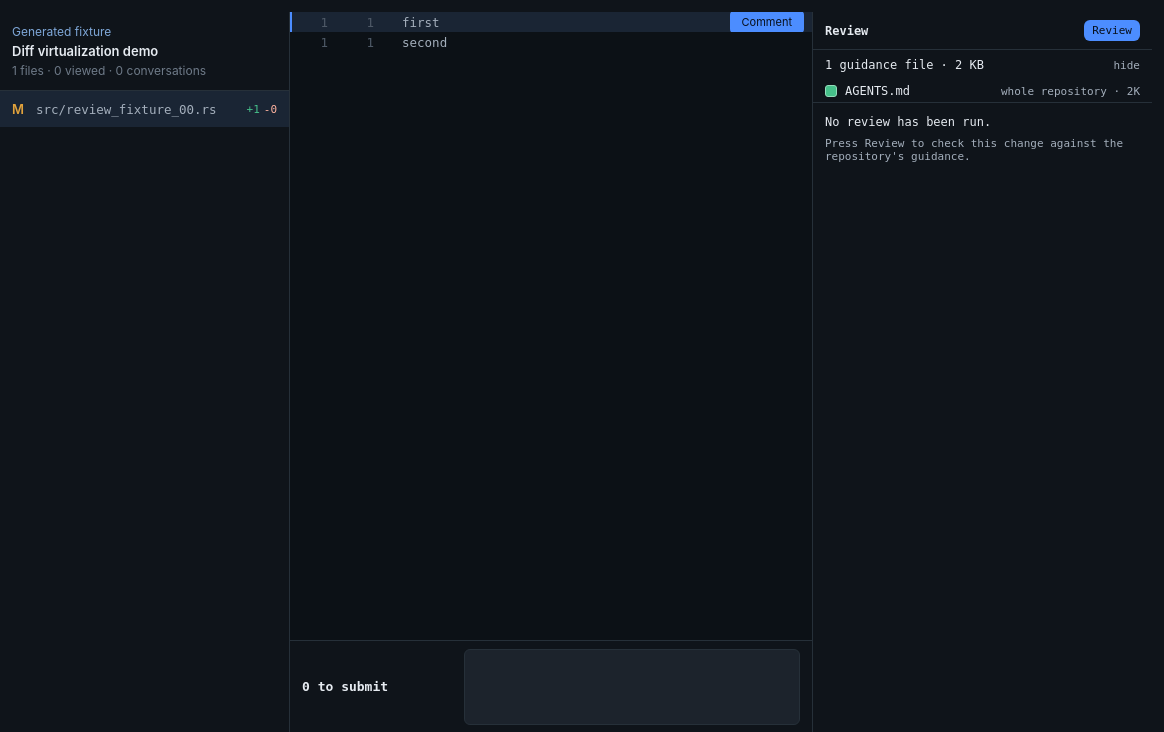
it: the review panel in a Session › shows a review command's transport rejection in the panel rather than losing the Session
This screenshot has width=1164, height=732.
Expected: the button "Review" is shown, x1=1084 y1=20 x2=1140 y2=41
Click the button "1 guidance file · 2 KB hide".
click(982, 65)  # box x1=813 y1=50 x2=1152 y2=80
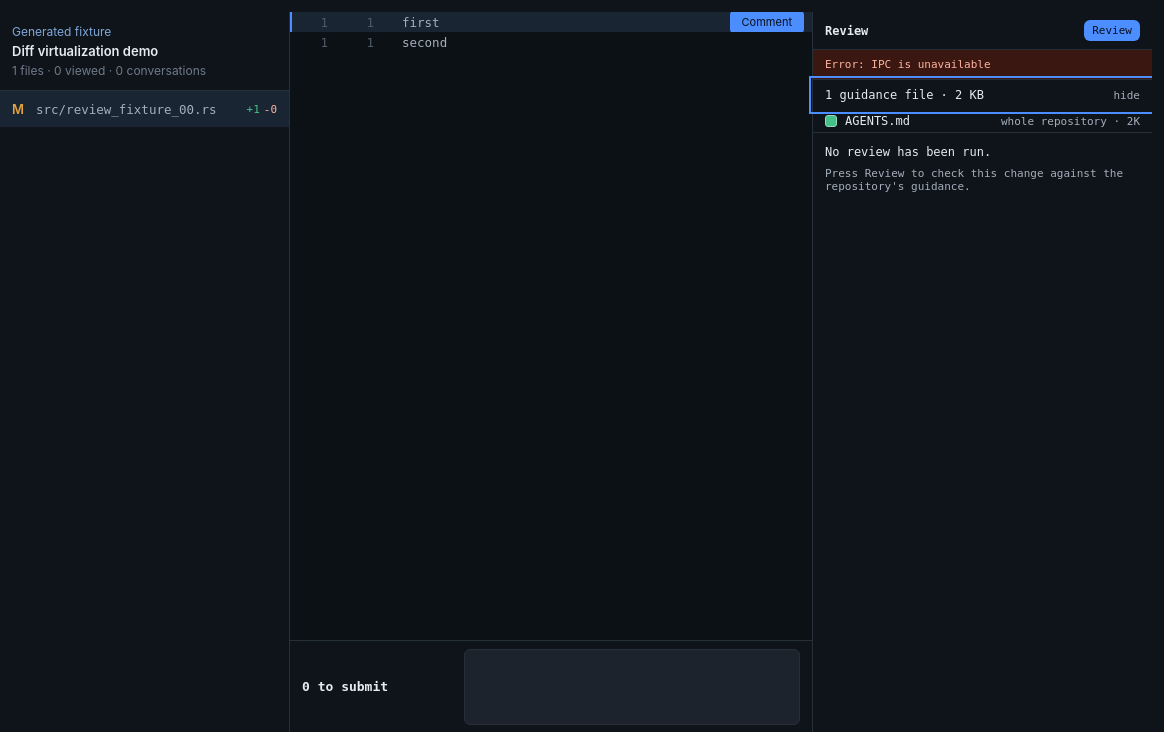
Expected: the text "first" is shown, x1=402 y1=14 x2=440 y2=30
Now the text "Error: IPC is unavailable" is shown, box x1=813 y1=50 x2=1152 y2=80
